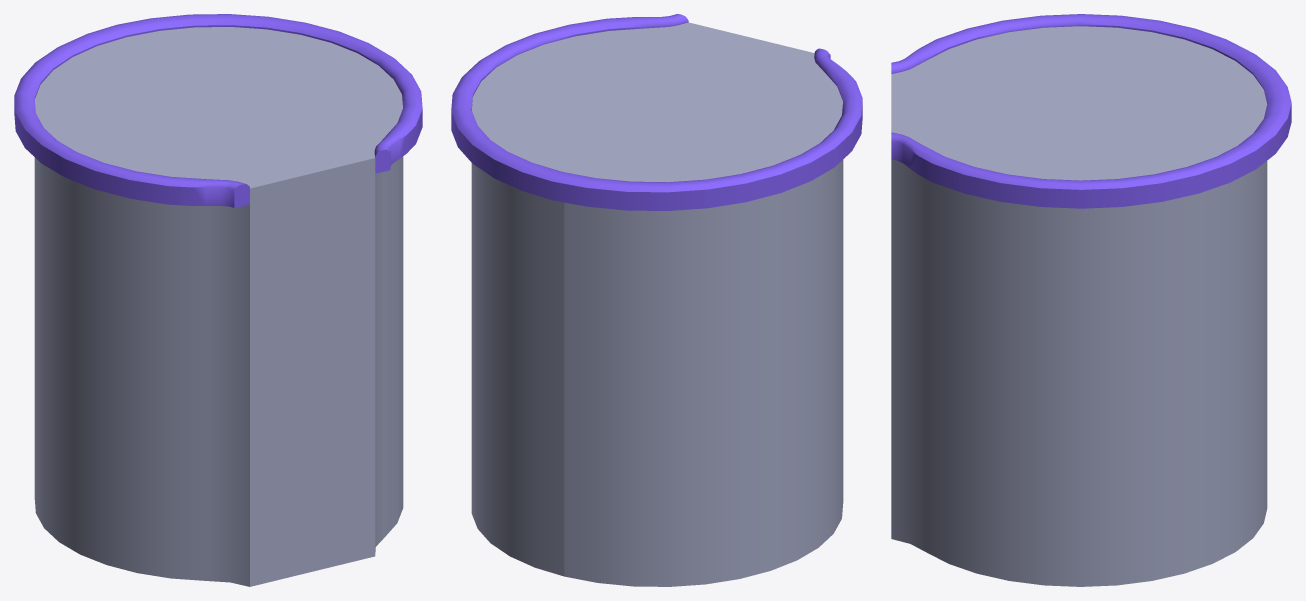
Rendered from Platform A Circle.fbx.
The picture shows the model from 3 angles, left to right: view 1: azimuth 30°, elevation 25°; view 2: azimuth 150°, elevation 25°; view 3: azimuth 270°, elevation 25°; orthographic projection.
Parts seen in each view (by area): view 1: Platform A Circle.001, Platform A Circle.002; view 2: Platform A Circle.001, Platform A Circle.002; view 3: Platform A Circle.001, Platform A Circle.002.
Boxes of the visible parts, x1,y1,x2,y2 form: Platform A Circle.001: (34,156,403,586); Platform A Circle.002: (14,14,422,207); Platform A Circle.001: (471,160,843,586); Platform A Circle.002: (451,14,862,210); Platform A Circle.001: (891,159,1267,586); Platform A Circle.002: (891,14,1291,208).
Size of the model in its own units: 13.55 by 14.82 by 13.15.
